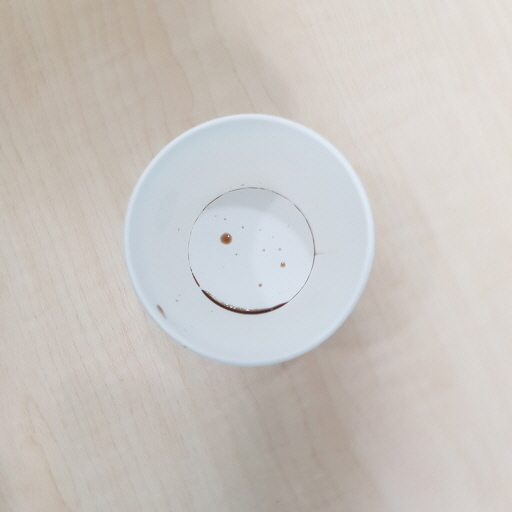Paper_1: (126, 112, 377, 364)
